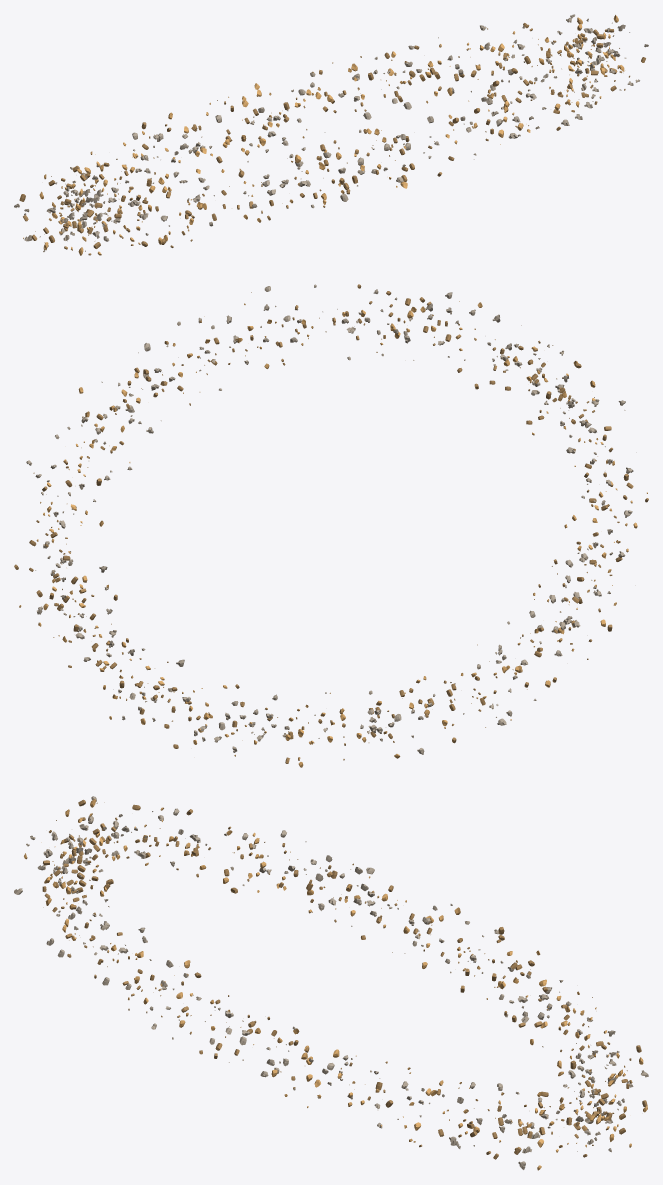
Rendered from spaceRocksanim2.fbx.
3 renders of one model, top to bottom at view 1: azimuth 30°, elevation 25°; view 2: azimuth 150°, elevation 25°; view 3: azimuth 270°, elevation 25°, orthographic. The views are drawn at different scales.
Parts seen in each view (by area): view 1: spacerocks; view 2: spacerocks; view 3: spacerocks.
Boxes of the visible parts, <box> form: spacerocks: <box>14,14,648,255</box>; spacerocks: <box>14,284,648,767</box>; spacerocks: <box>14,796,648,1170</box>.
Size of the model in its own units: 73.53 by 33.41 by 67.72.
Materials: 1 (1 with a texture image).
